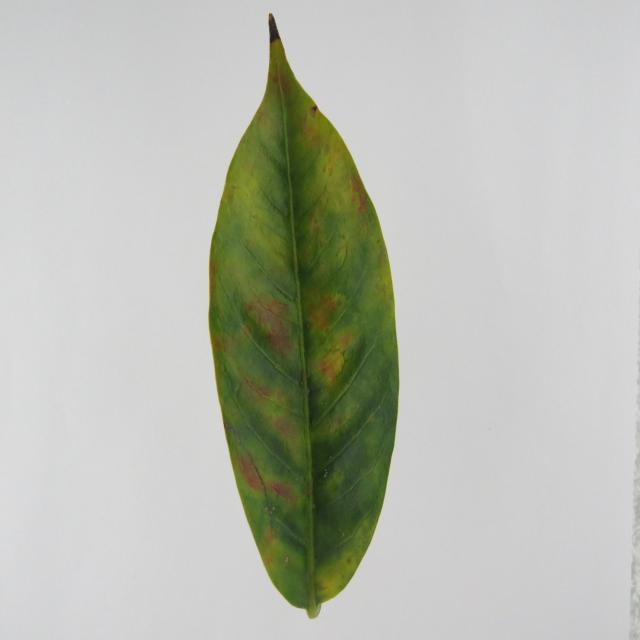DeficienciaNutricional-Fosforo: (209, 15, 399, 618)
